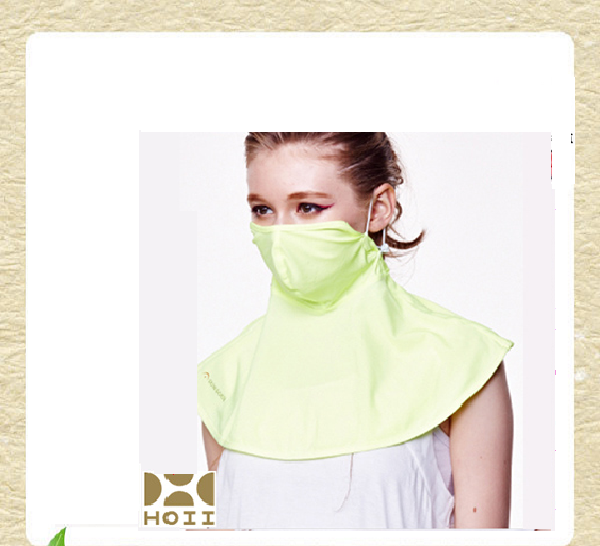face_mask: (245, 140, 367, 294)
